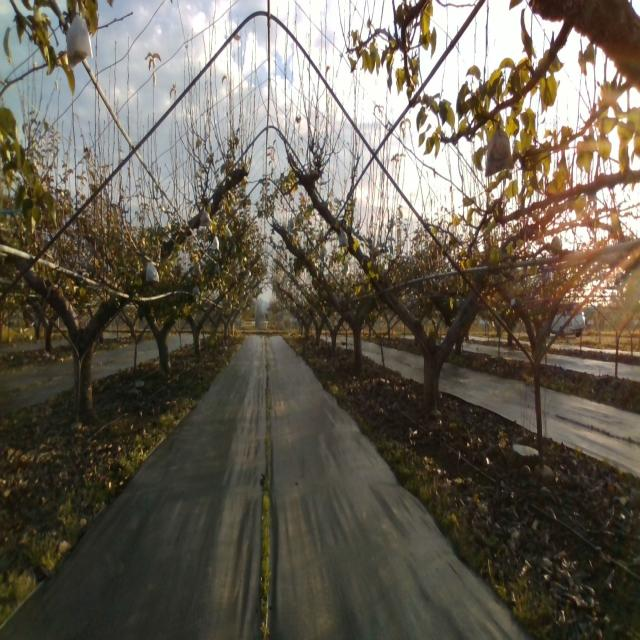pearbags: (484, 119, 514, 178), (66, 14, 92, 69), (146, 256, 160, 284), (338, 228, 349, 248), (200, 206, 210, 226)
